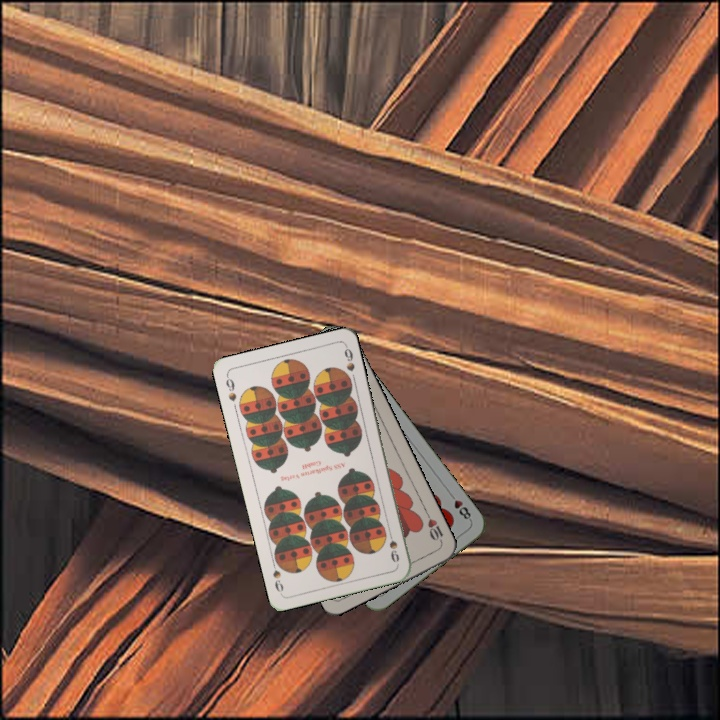H10: (422, 508, 446, 547)
H8: (445, 489, 474, 524)
S9: (384, 526, 402, 565), (222, 372, 239, 404)
